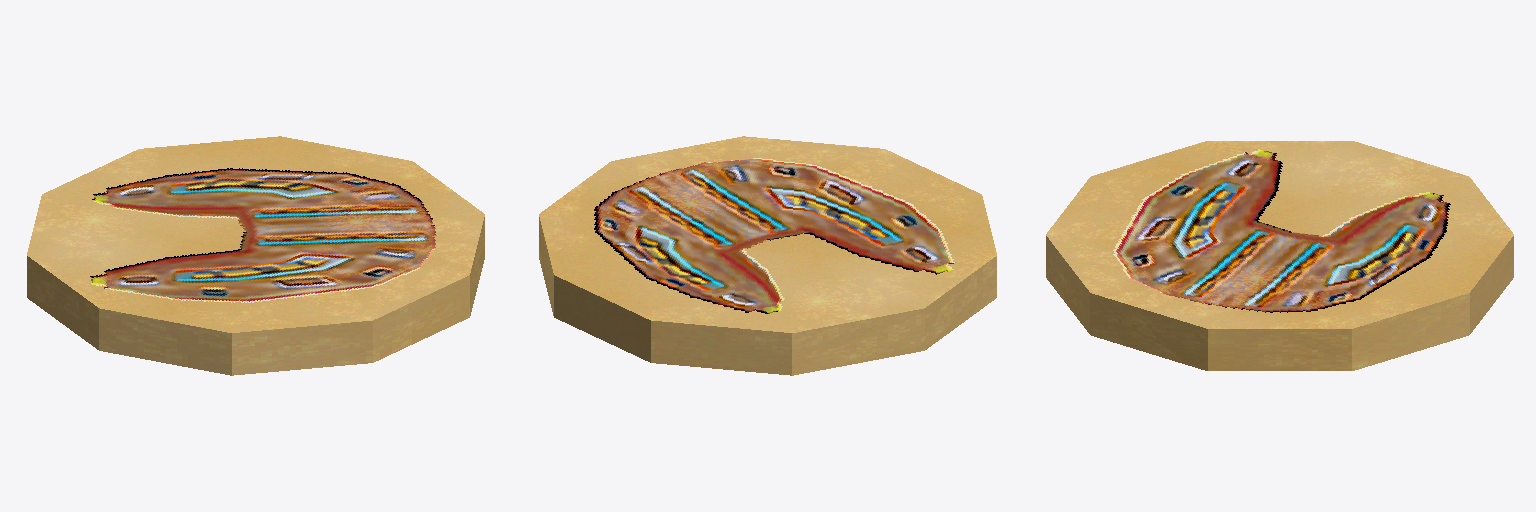
3 views of the same model, side by side, from view 1: azimuth 30°, elevation 25°; view 2: azimuth 150°, elevation 25°; view 3: azimuth 270°, elevation 25° (orthographic).
Parts seen in each view (by area): view 1: coin; view 2: coin; view 3: coin.
Boxes of the visible parts, box(x1,y1,x2,y2) form: coin: box(27, 136, 484, 375); coin: box(539, 136, 996, 375); coin: box(1046, 141, 1513, 370).
Bounding box in the file's own units: 1.9 × 0.2 × 2.
Materials: 1 (1 with a texture image).